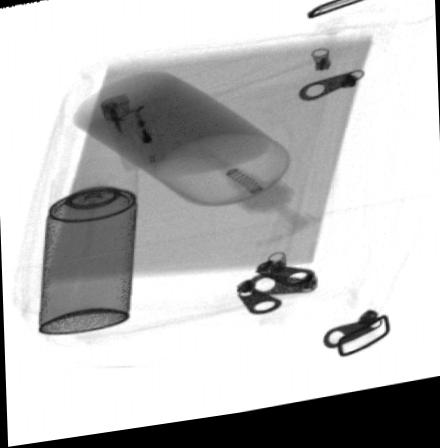Lighter: (100, 93, 167, 177)
Sprayer: (38, 160, 141, 335)
